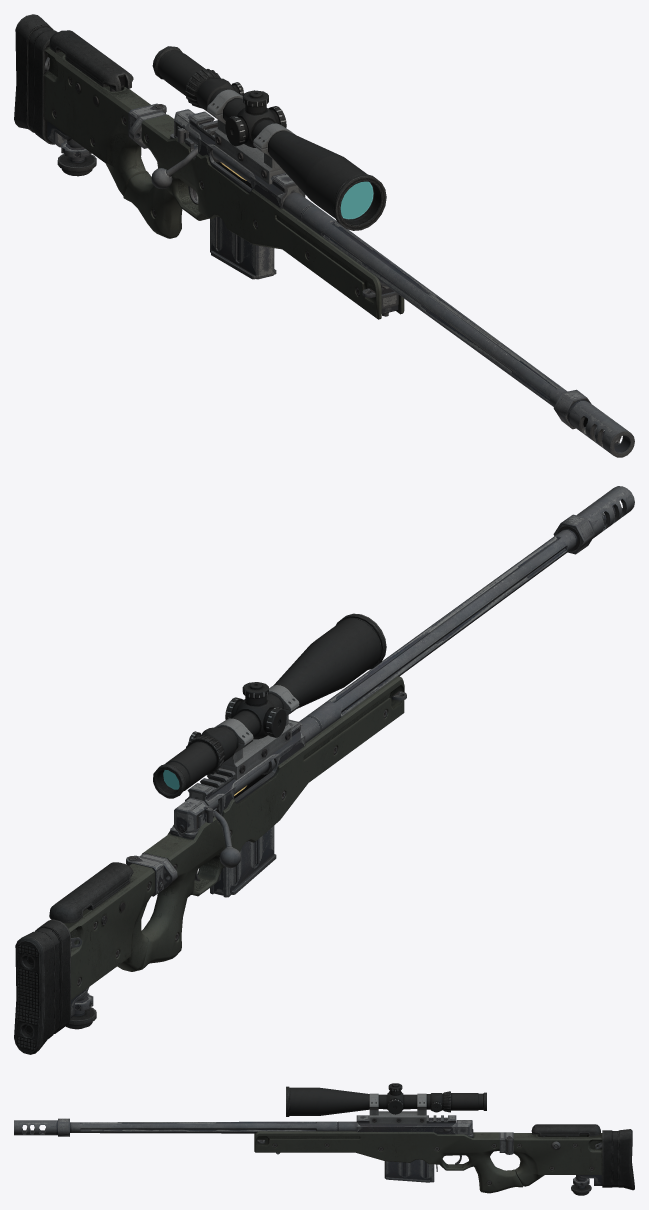
The model's file is m2010_esr.glb.
3 renders of one model, top to bottom at view 1: azimuth 30°, elevation 25°; view 2: azimuth 150°, elevation 25°; view 3: azimuth 270°, elevation 25°, orthographic. The views are drawn at different scales.
Parts seen in each view (by area): view 1: base, scope, mag, bolt; view 2: base, scope, mag, boltback, bolt; view 3: base, scope, mag, boltback.
Boxes of the visible parts, box(x1,y1,x2,y2) form: base: box(14, 14, 634, 457); scope: box(152, 46, 386, 230); mag: box(210, 216, 276, 279); bolt: box(151, 132, 252, 188); base: box(14, 486, 634, 1054); scope: box(153, 613, 386, 798); mag: box(210, 825, 276, 897); boltback: box(174, 797, 212, 835); bolt: box(208, 759, 275, 867); base: box(14, 1115, 634, 1195); scope: box(286, 1083, 486, 1124); mag: box(384, 1159, 434, 1182); boltback: box(456, 1120, 473, 1135).
Bounding box in the file's own units: 0.0734 × 0.2112 × 1.1.
Materials: 1 (1 with a texture image).
